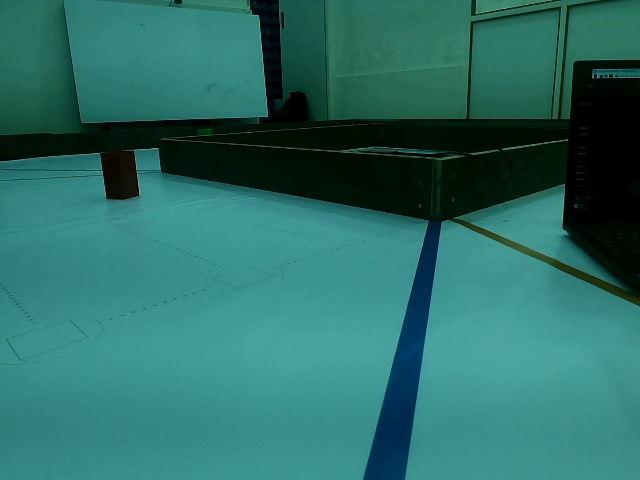red: (100, 151, 139, 202)
